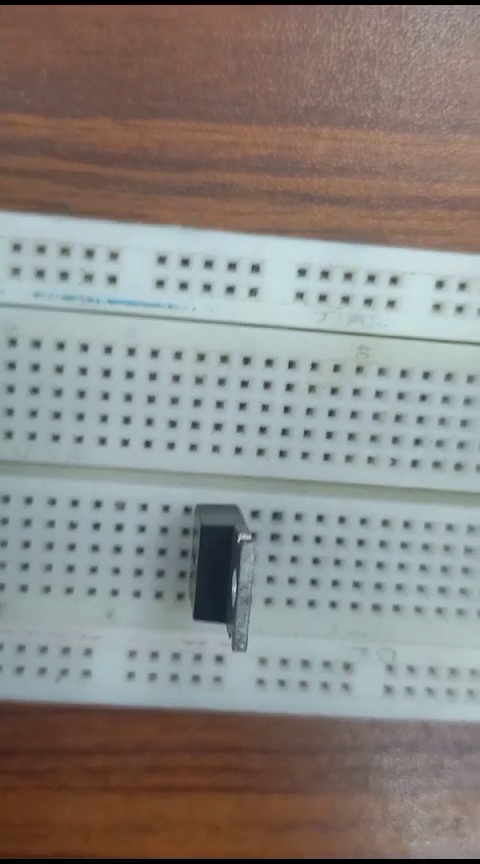voltage regulator: (172, 501, 270, 664)
